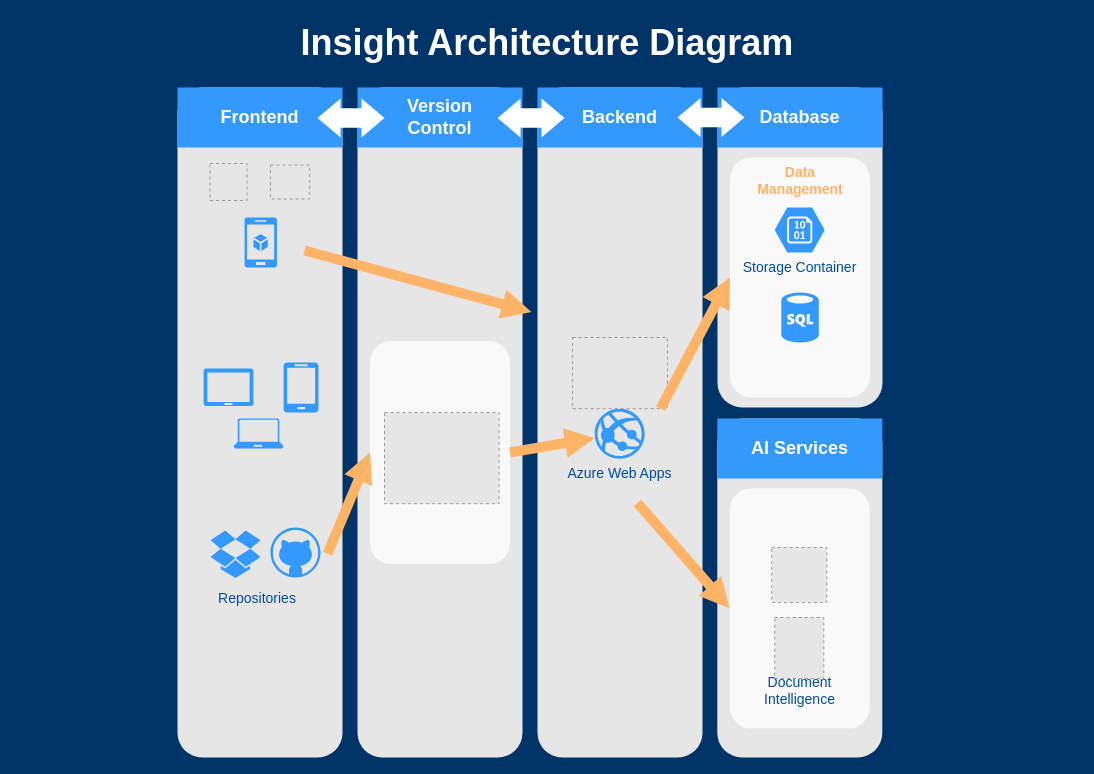
Some shapes in this 1094 by 774 pixel diagram are drawn without their labels. Grey dashed boxes stand in for pictures. The shapes that lost their labels are listed below. From the top down, each one's box as (x1, y1, x2, y2) in pixels, then its label:
(244, 217, 276, 267): Applications
(781, 292, 818, 342): SQL Database
(233, 418, 283, 448): Devices
(370, 340, 510, 564): CI/CD
(729, 488, 869, 728): Azure AI services
